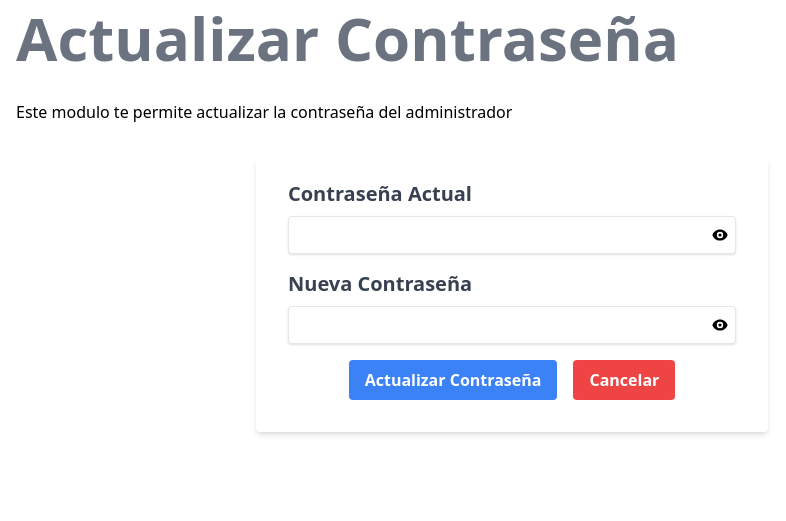
Test: ActualizarContrasena › Actualización exitosa de la contraseña
The width and height of the screenshot is (786, 521).
In the password field labelled "Contraseña Actual": (512, 235) [288,216,736,254], type "oldPassword123"
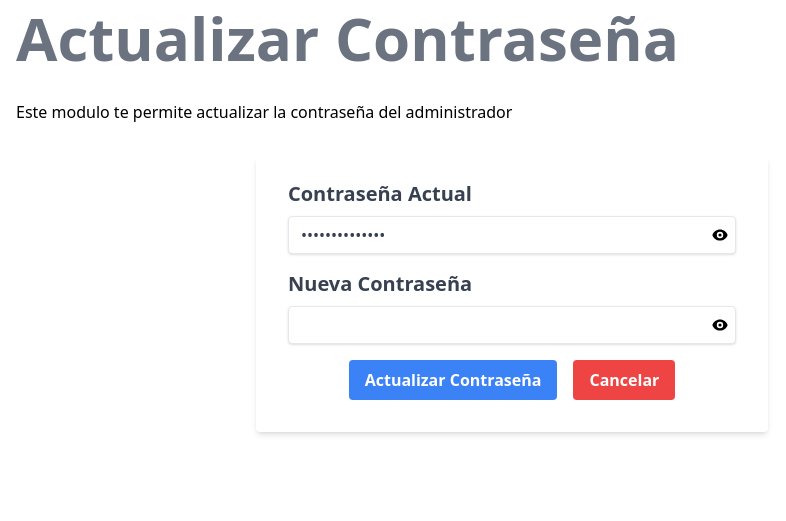
In the password field labelled "Nueva Contraseña": (512, 325) [288,306,736,344], type "newPassword123"
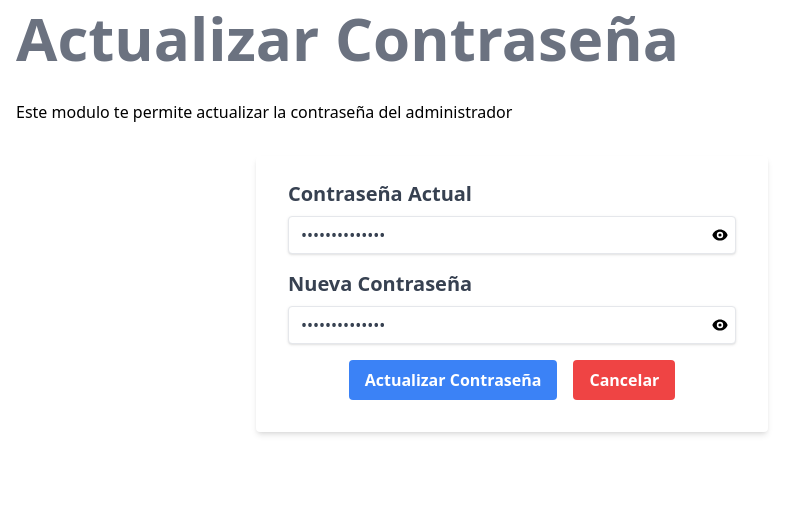
Click the button "Actualizar Contraseña": click(453, 380) [349,360,558,400]
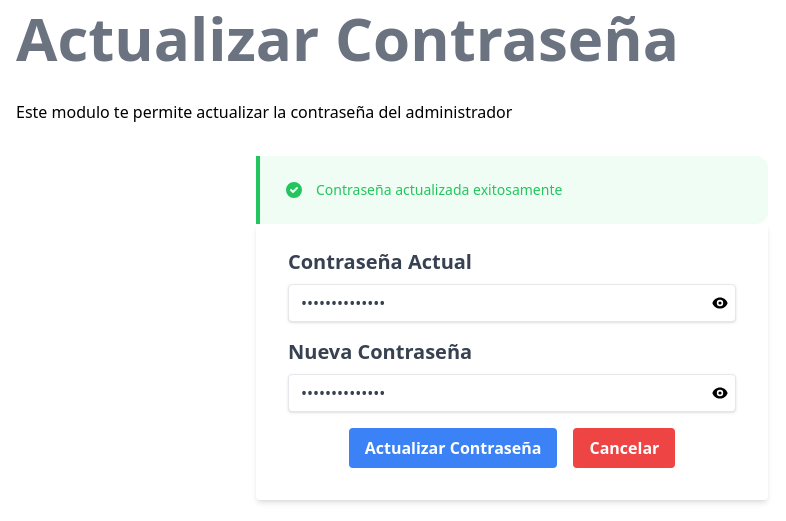
Expected: the text "Contraseña actualizada exitosamente" is shown, [316,180,562,200]
